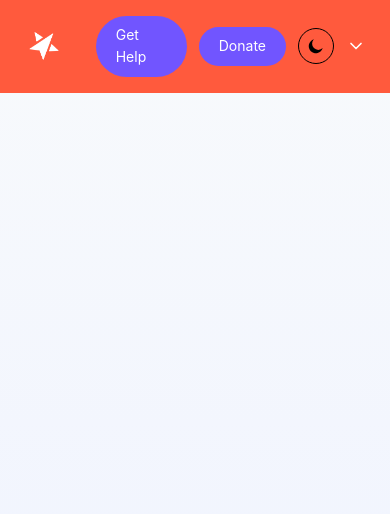
Test case: WelcomeNavbar responsiveness › opens the mobile dropdown menu with the primary links on tap
Click the button named "Toggle menu". click: (356, 46)
box: x1=346 y1=36 x2=366 y2=56
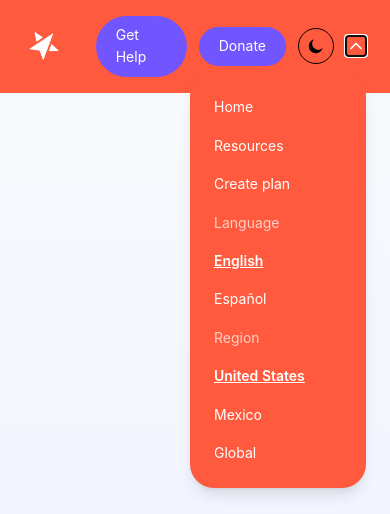
Expected: the link "Home" is shown, x1=214 y1=98 x2=253 y2=115
Expected: the link "Create plan" is shown, x1=214 y1=175 x2=290 y2=192
